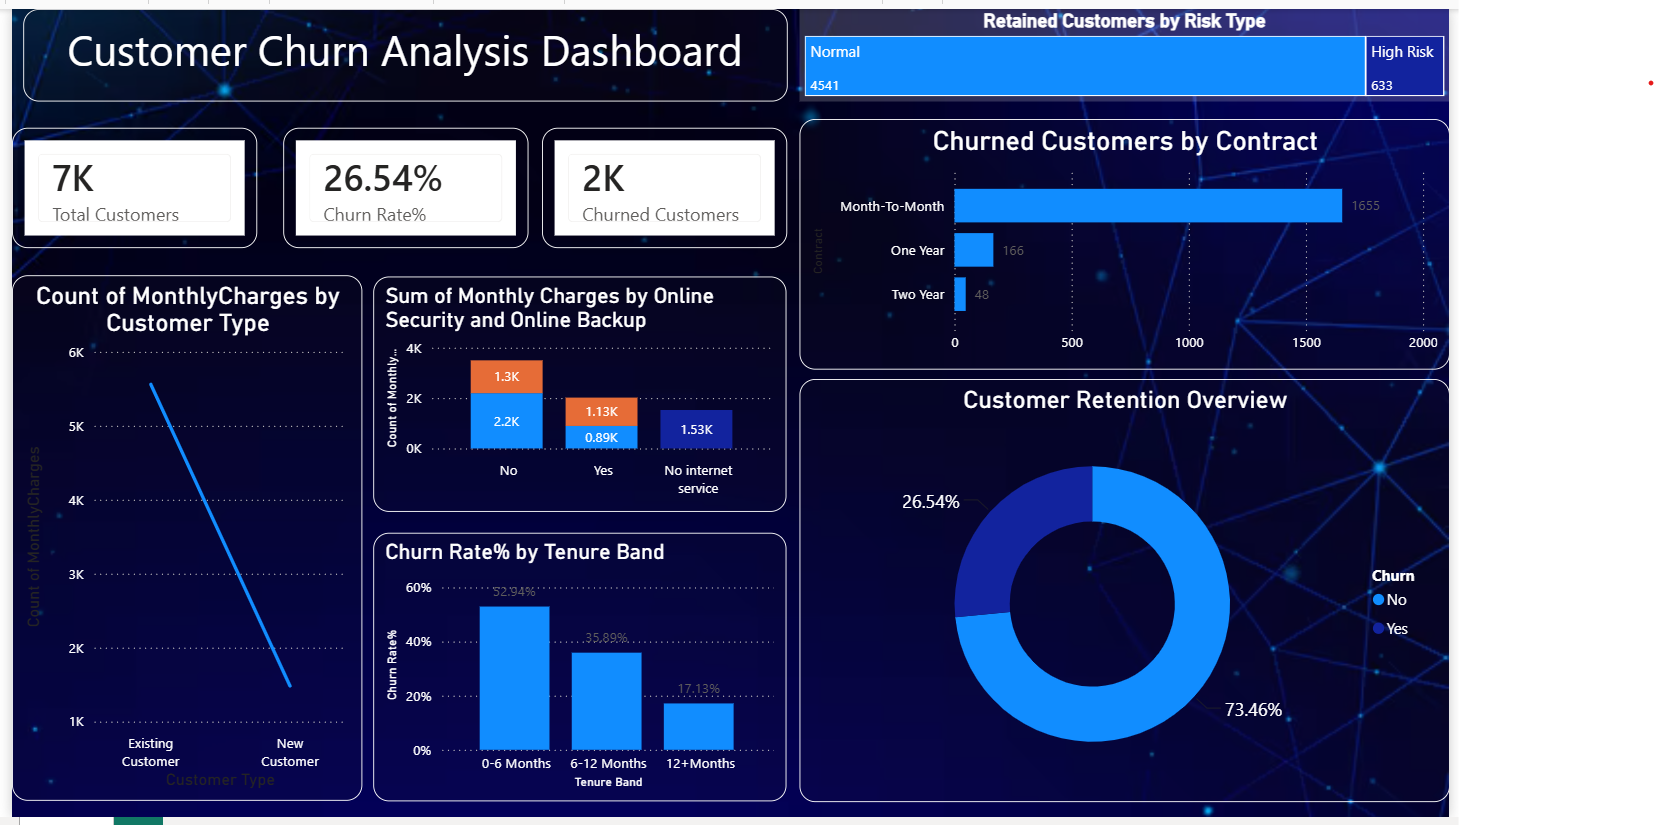

This screenshot's page, from the dashboard's own definition file:
{"tool":"powerbi","page":{"name":"Page 1","canvas":[1280,720],"ordinal":0},"visuals":[{"type":"textbox","box":[9.7,0,680.4,82],"z":0},{"type":"treemap","fields":{"Values":["Calculated Measures.Retained Customers"],"Group":["telco_churn_unclean.Risk Type"]},"box":[701.2,0,579.1,82.6],"z":1000},{"type":"cardVisual","fields":{"Data":["Calculated Measures.Total Customers"]},"box":[0,106.2,218.4,107.4],"z":2000},{"type":"cardVisual","fields":{"Data":["Calculated Measures.Churned Customers"]},"box":[471.7,106.2,218.4,107.4],"z":3000},{"type":"cardVisual","fields":{"Data":["Calculated Measures.Churn Rate%"]},"box":[241.3,106.2,218.4,107.4],"z":4000},{"type":"donutChart","title":"Customer Retention Overview","fields":{"Y":["Calculated Measures.Total Customers"],"Series":["telco_churn_unclean.Churn"]},"box":[700.9,329.4,579.1,376.4],"z":5000},{"type":"barChart","title":"Churned Customers by Contract","fields":{"Category":["telco_churn_unclean.Contract"],"Y":["Calculated Measures.Churned Customers"]},"box":[700.9,97.7,579.1,223.2],"z":6000},{"type":"columnChart","title":"Sum of Monthly Charges by Online Security and Online Backup","fields":{"Category":["telco_churn_unclean.OnlineSecurity"],"Y":["CountNonNull(telco_churn_unclean.MonthlyCharges)"],"Series":["telco_churn_unclean.OnlineBackup"]},"box":[322.1,237.7,368,209.9],"z":7000},{"type":"columnChart","fields":{"Y":["Calculated Measures.Churn Rate%"],"Category":["telco_churn_unclean.Tenure Band"]},"box":[322.1,466.9,368,238.9],"z":8000},{"type":"lineChart","fields":{"Category":["telco_churn_unclean.Customer Type"],"Y":["CountNonNull(telco_churn_unclean.MonthlyCharges)"]},"box":[0,237.4,312.1,468.1],"z":9000}]}

Visuals, with their boxes in screenshot pixels (x1, y1, x2, y2):
textbox: 15 4 782 97
treemap - Calculated Measures.Retained Customers x telco_churn_unclean.Risk Type: 795 4 1448 97
cardVisual - Calculated Measures.Total Customers: 4 124 251 245
cardVisual - Calculated Measures.Churned Customers: 536 124 782 245
cardVisual - Calculated Measures.Churn Rate%: 276 124 523 245
"Customer Retention Overview" donutChart: 795 376 1448 800
"Churned Customers by Contract" barChart: 795 114 1448 366
"Sum of Monthly Charges by Online Security and Online Backup" columnChart: 367 272 782 509
columnChart - Calculated Measures.Churn Rate% x telco_churn_unclean.Tenure Band: 367 531 782 800
lineChart - telco_churn_unclean.Customer Type x CountNonNull(telco_churn_unclean.MonthlyCharges): 4 272 356 800
